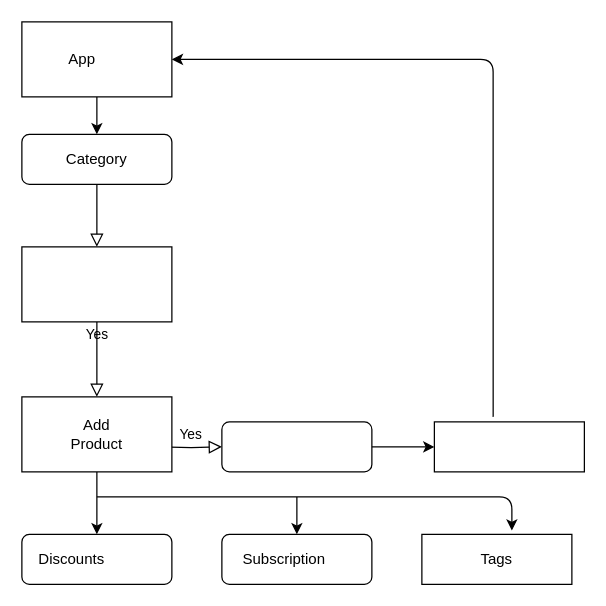
This 606x606 diagram has some shape labels left out. The box of each missing label's shape, as (x1, y1, x2, y2) in pixels:
Delete Product: (433, 421, 584, 472)
Edit Product: (221, 421, 372, 472)
Products: (21, 246, 172, 322)
